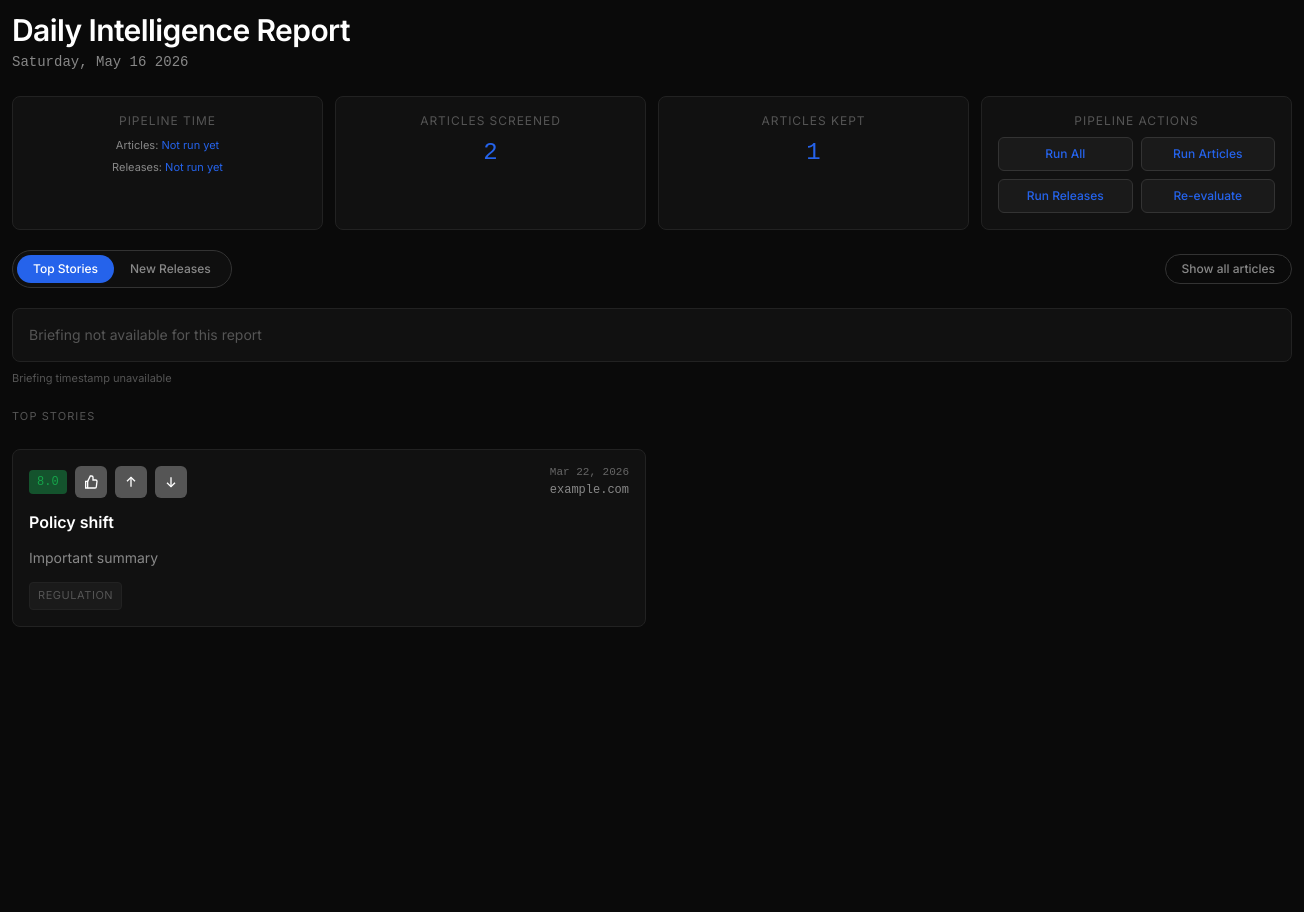
Test: Dashboard › renders latest report from backend
Expected: the heading "Daily Intelligence Report" is shown, [12,12,350,48]
Expected: the text "Articles Screened" is shown, [420,113,561,128]
Click the button "New Releases".
click(170, 269)  # box [114,255,227,283]
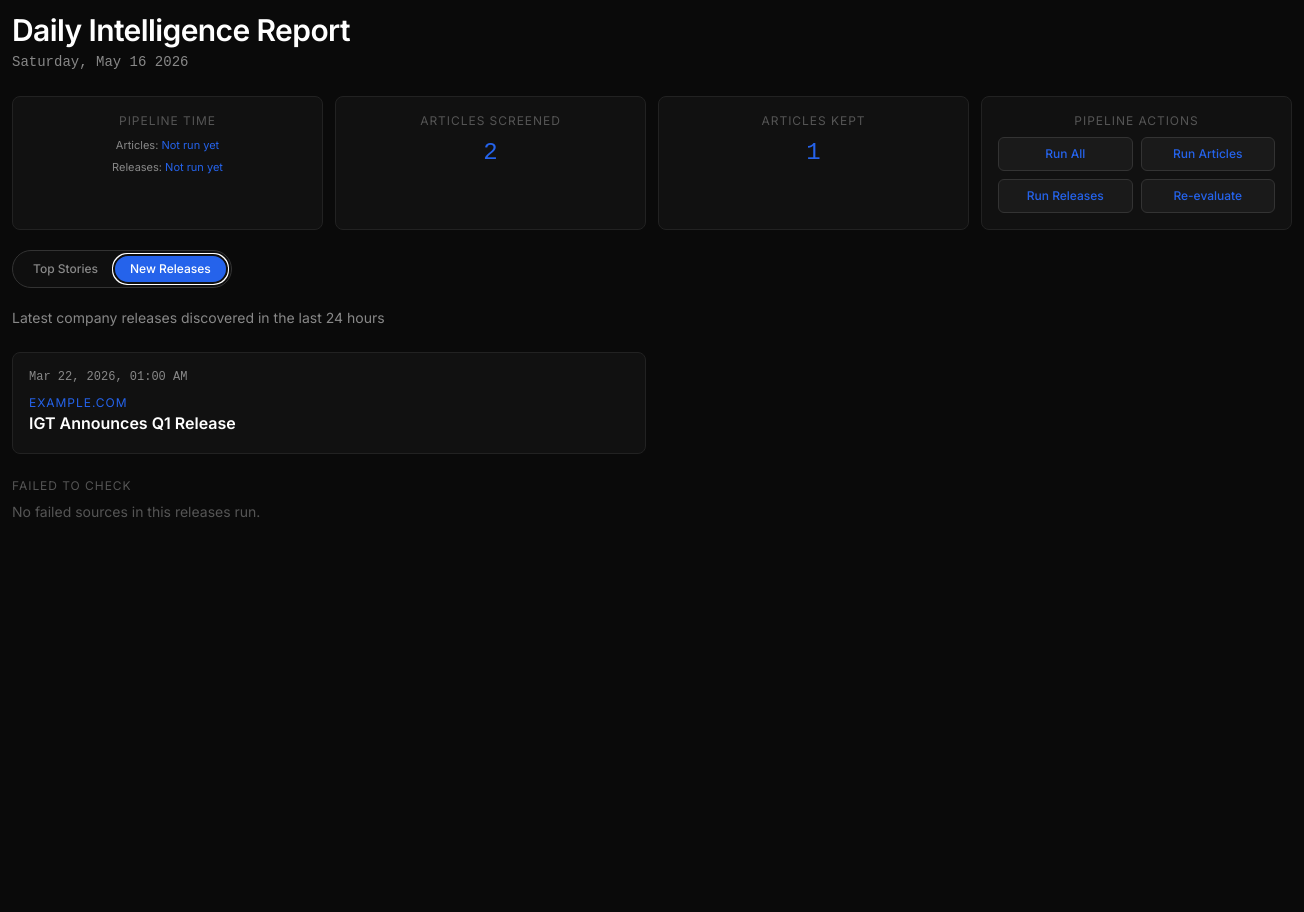
Result: the link "IGT Announces Q1 Release" is shown at [29,413,236,433]
